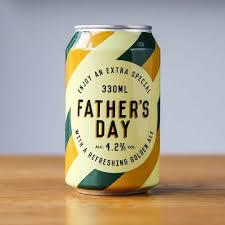beer: (63, 24, 164, 195)
